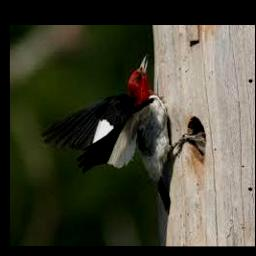Woodpecker: (43, 54, 204, 214)
